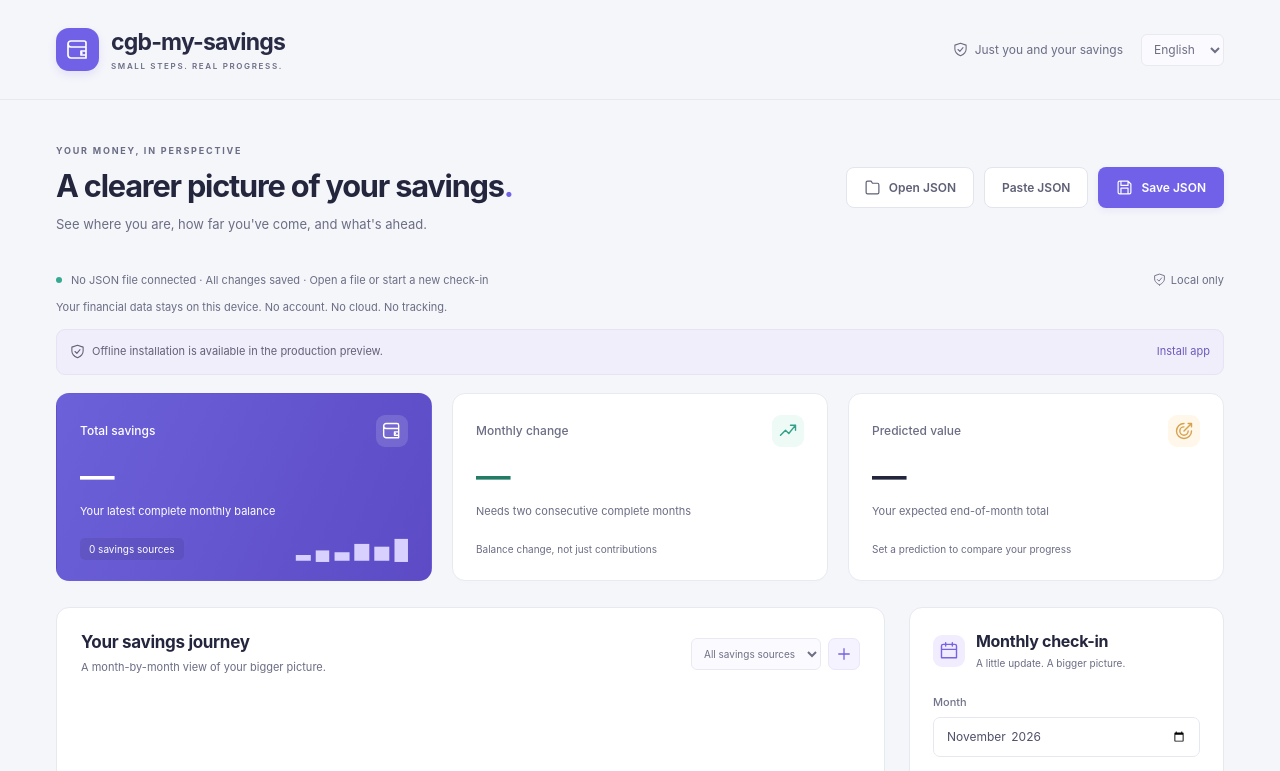
Test: language selection › keeps the language change for this session and warns when preference storage is blocked
The width and height of the screenshot is (1280, 771).
Select "Español" in the dropdown named "Language" next to "Just you and your savings" at (1182,50), box top-left (1141, 34), bottom-right (1224, 66)
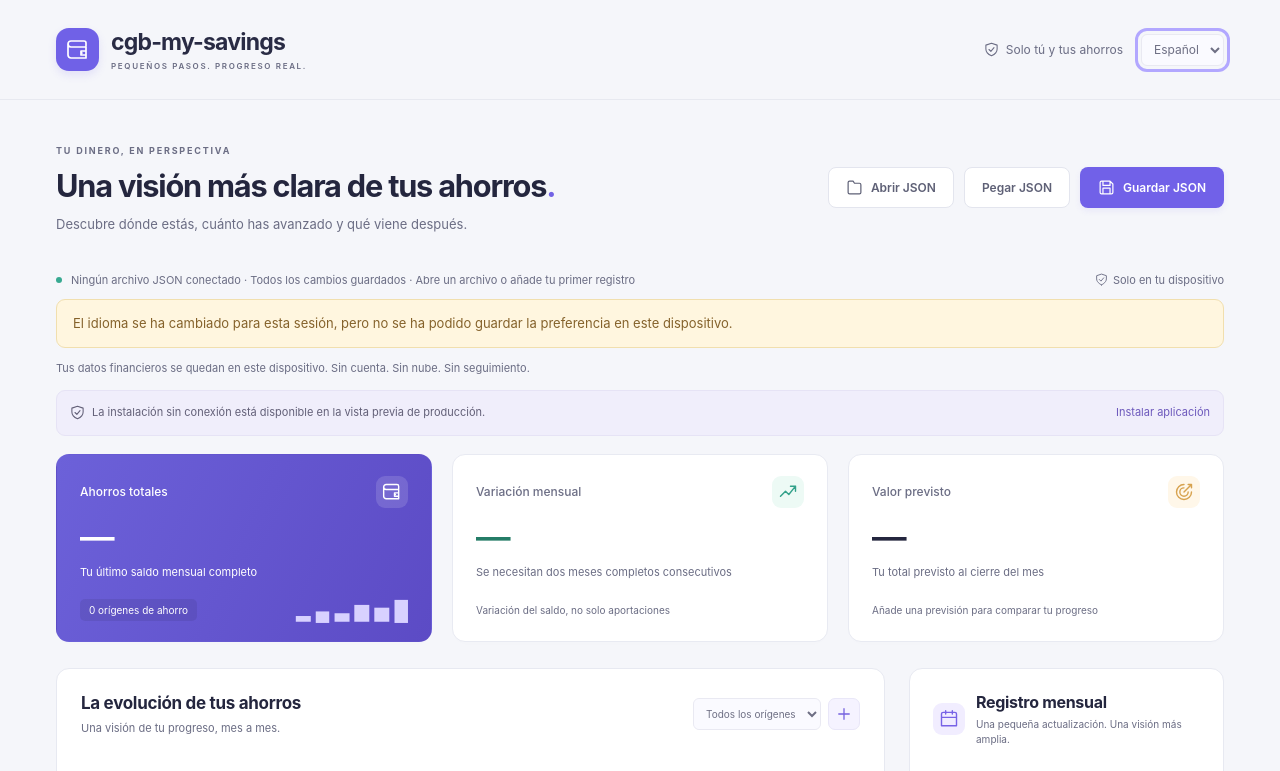
Check: the 1st message shows "no se ha podido guardar la preferencia", box top-left (73, 315), bottom-right (733, 331)
